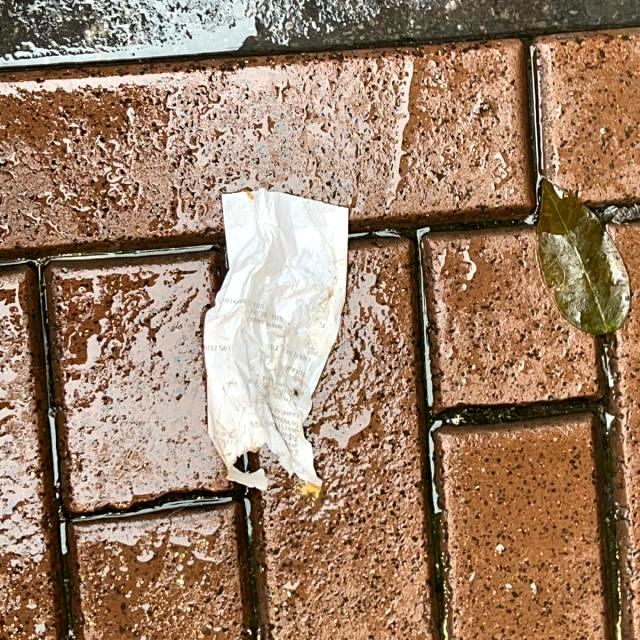Paper: (200, 184, 350, 492)
